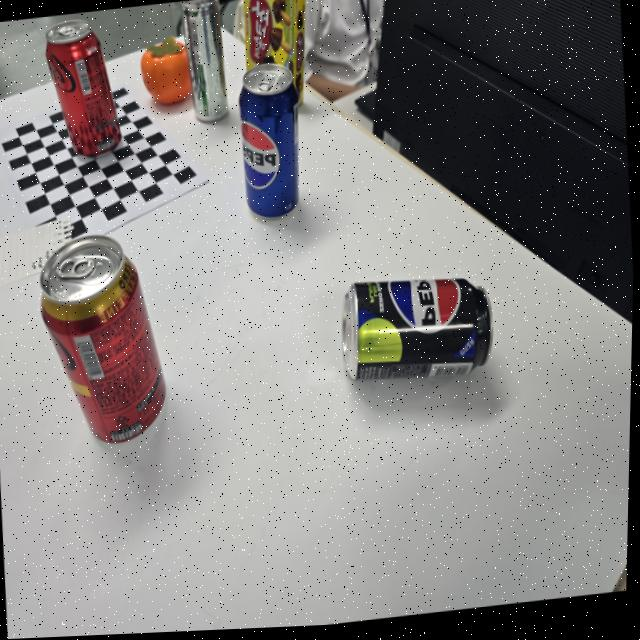can_coke_decaf: (40, 236, 167, 443)
can_coke_zero: (45, 21, 122, 154)
can_pepsi: (241, 62, 298, 214)
can_pepsi_zero: (337, 276, 493, 380)
